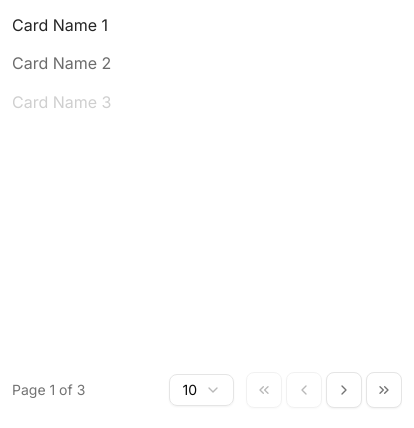
Test: <DataTable /> — dual render (table ≥sm, cards <sm) › renders a mobile card for each windowed row when renderCard is given
Expected: the list item "Card Name 1" is shown, left=12, top=15, right=108, bottom=35
Click the button named "Next page". click: (344, 390)
box: left=326, top=372, right=362, bottom=408
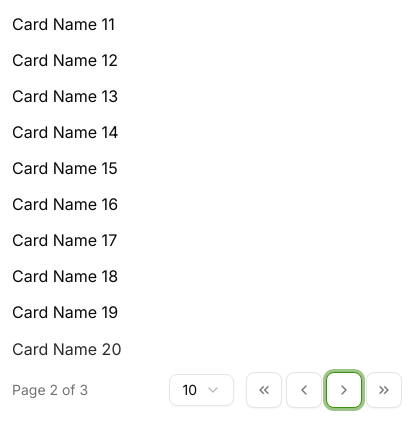
Result: the list item "Card Name 11" is shown at left=12, top=14, right=115, bottom=34
